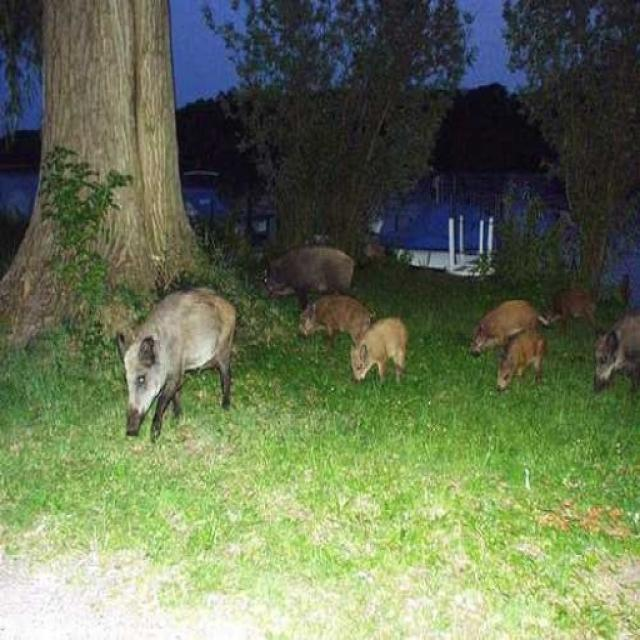pig: (105, 269, 235, 424), (343, 319, 431, 391), (575, 305, 640, 394), (462, 302, 562, 359), (299, 288, 377, 346), (489, 336, 557, 394), (268, 246, 367, 284)
